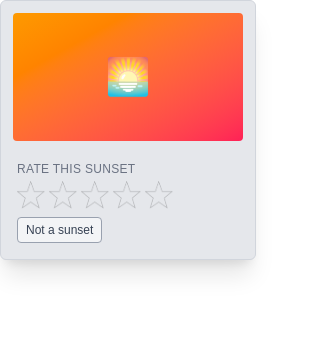
Test: FrameLabelCard › says when the frame had to be captured to be labeled
The width and height of the screenshot is (320, 359).
Click the 4th radio button. click: (127, 195)
box: [113,181,141,209]
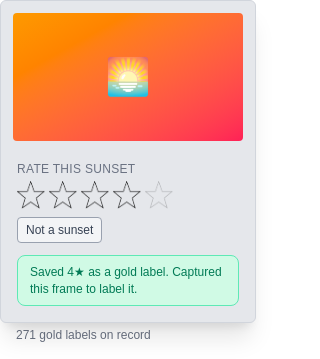
expect the text "Saved 4★ as a gold label. Captured this frame to label it." is shown: met, box [17,255,239,306]
